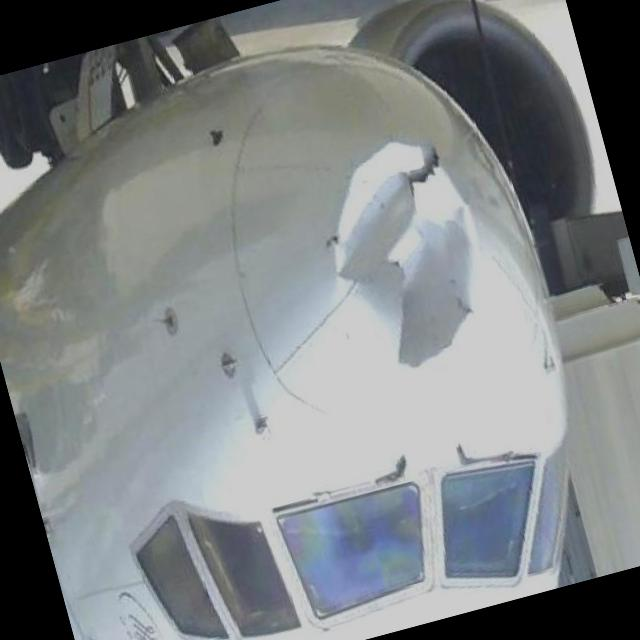dent: (296, 114, 516, 392)
